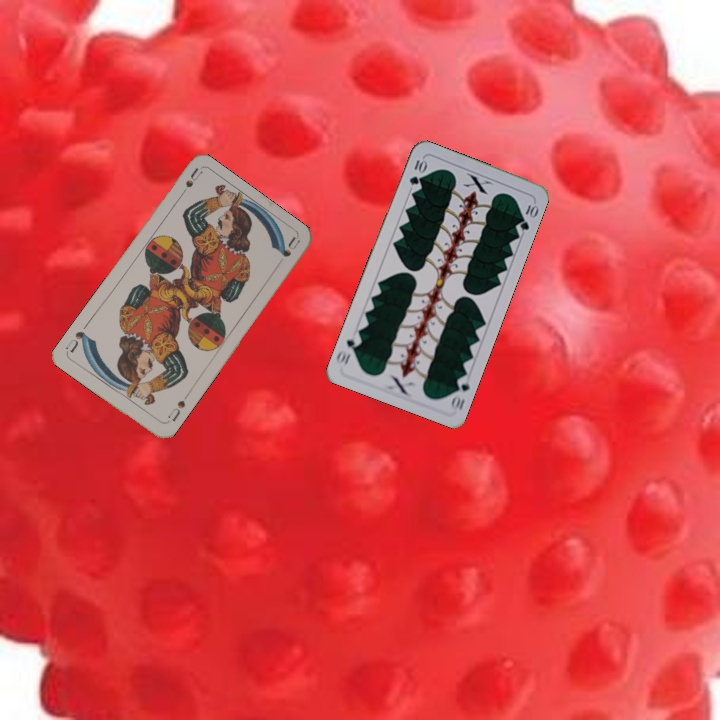G10: (447, 371, 473, 413), (405, 155, 429, 188)
SU: (174, 164, 204, 202), (162, 396, 188, 426)
